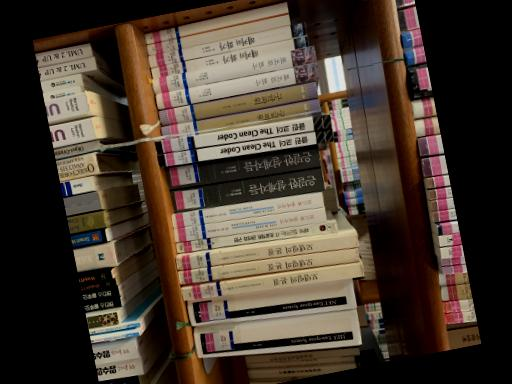book-spine: (192, 309, 361, 359), (185, 278, 356, 327), (150, 47, 316, 95), (153, 63, 319, 111), (156, 80, 317, 126), (163, 144, 320, 191), (179, 262, 363, 302), (147, 23, 306, 69), (153, 114, 330, 155), (169, 167, 324, 213), (175, 233, 358, 271), (177, 248, 359, 286), (148, 36, 308, 79), (156, 129, 333, 167), (159, 100, 320, 140), (143, 2, 288, 45), (145, 14, 289, 56), (170, 192, 324, 229), (172, 208, 325, 243), (175, 222, 337, 254)
